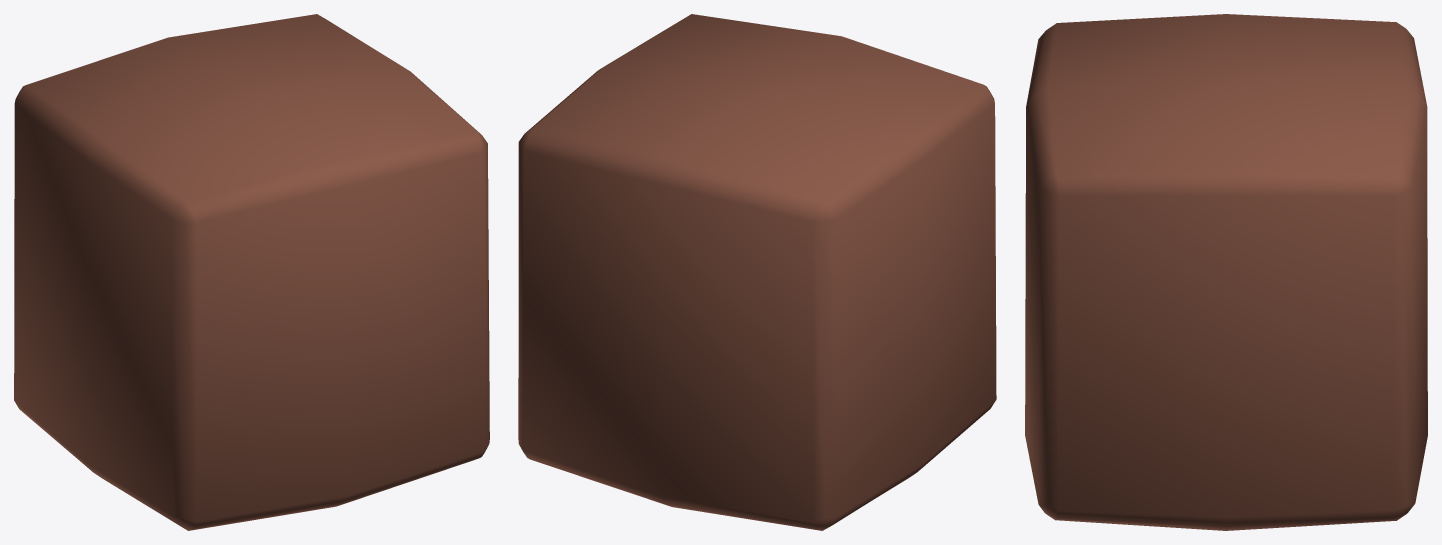
Rendered from new_dirtfbx.fbx.
The picture shows the model from 3 angles, left to right: view 1: azimuth 30°, elevation 25°; view 2: azimuth 150°, elevation 25°; view 3: azimuth 270°, elevation 25°; orthographic projection. The views are drawn at different scales.
Parts seen in each view (by area): view 1: DIRT_LOW; view 2: DIRT_LOW; view 3: DIRT_LOW.
Boxes of the visible parts, <box> form: DIRT_LOW: <box>14,14,489,530</box>; DIRT_LOW: <box>518,14,996,530</box>; DIRT_LOW: <box>1025,14,1427,530</box>.
Bounding box in the file's own units: 1.03 × 1.07 × 1.02.
Materials: 1 (1 with a texture image).
